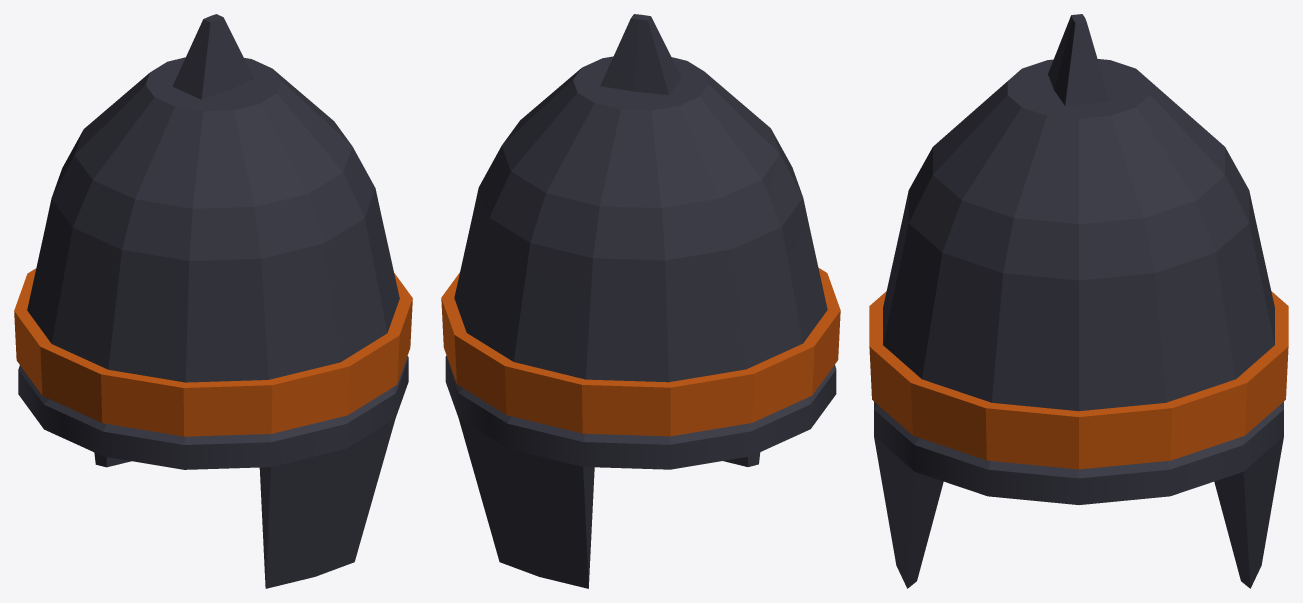
Rendered from SM_helmet.FBX.
The picture shows the model from 3 angles, left to right: view 1: azimuth 30°, elevation 25°; view 2: azimuth 150°, elevation 25°; view 3: azimuth 270°, elevation 25°; orthographic projection. The views are drawn at different scales.
Visible parts, largest first — view 1: Cylinder001; view 2: Cylinder001; view 3: Cylinder001.
Boxes of the visible parts, x1=… form: Cylinder001: x1=14, y1=14, x2=412, y2=588; Cylinder001: x1=441, y1=14, x2=840, y2=588; Cylinder001: x1=869, y1=14, x2=1288, y2=588.
Size of the model in its own units: 26.79 by 37.01 by 26.12.
